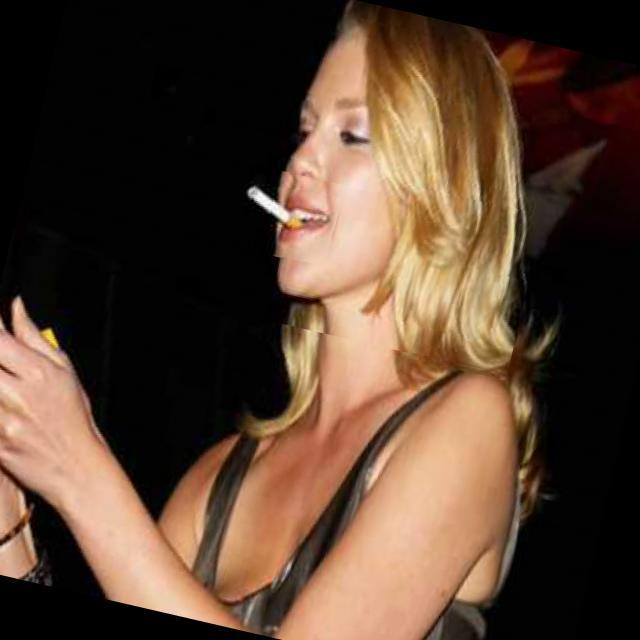cigarette: (228, 162, 346, 270)
